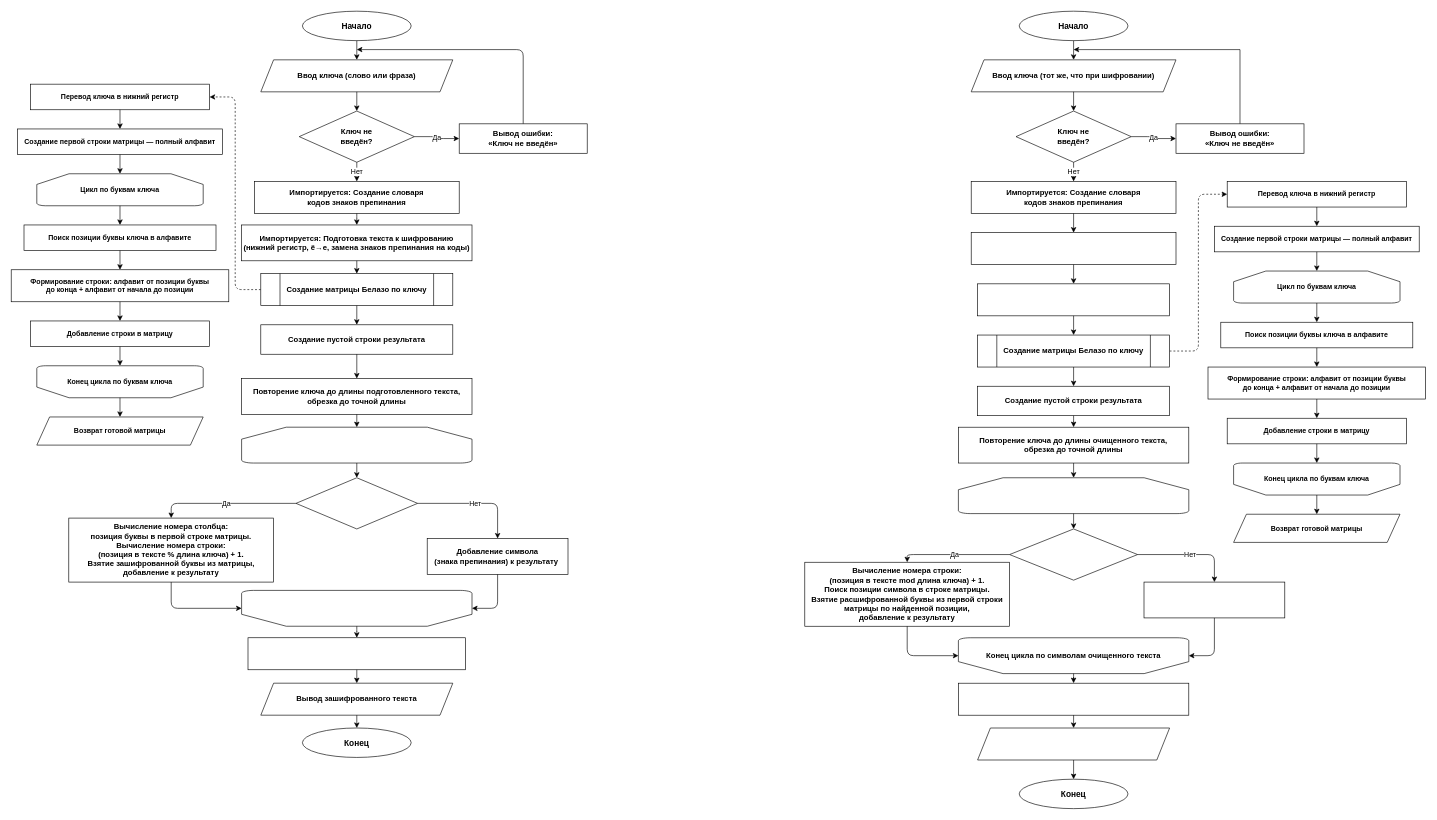
Image size: 1437x820. Some labels were removed from this diagram. The centre of each missing label's shape, as x and y in pixels:
"Вывод расшифрованного текста" belongs at point (1073, 743).
"Добавление символа (знак препинания) к результату" belongs at point (1214, 599).
"Импортируется: Восстановление знаков препинания из кодов (тчк→., зпт→, и т.д.)" belongs at point (1073, 699).
"Импортируется: Разбивка на группы по 5 символов, перевод в верхний регистр" belongs at point (356, 653).
"Импортируется: Создание обратного словаря (код → знак препинания)" belongs at point (1073, 248).
"Конец цикла по символам подготовленного текста" belongs at point (356, 608).
"Символ есть в алфавите?" belongs at point (356, 503).
"Символ есть в строке матрицы?" belongs at point (1073, 554).
"Удаление пробелов из текста, перевод в нижний регистр" belongs at point (1073, 299).
"Цикл по символам очищенного текста (позиция — от 0 до длины текста)" belongs at point (1073, 495).
"Цикл по символам подготовленного текста (позиция — от 0 до длины текста)" belongs at point (356, 445).
